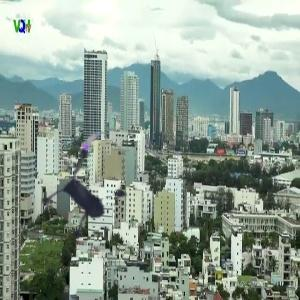drone: (32, 130, 160, 258)
